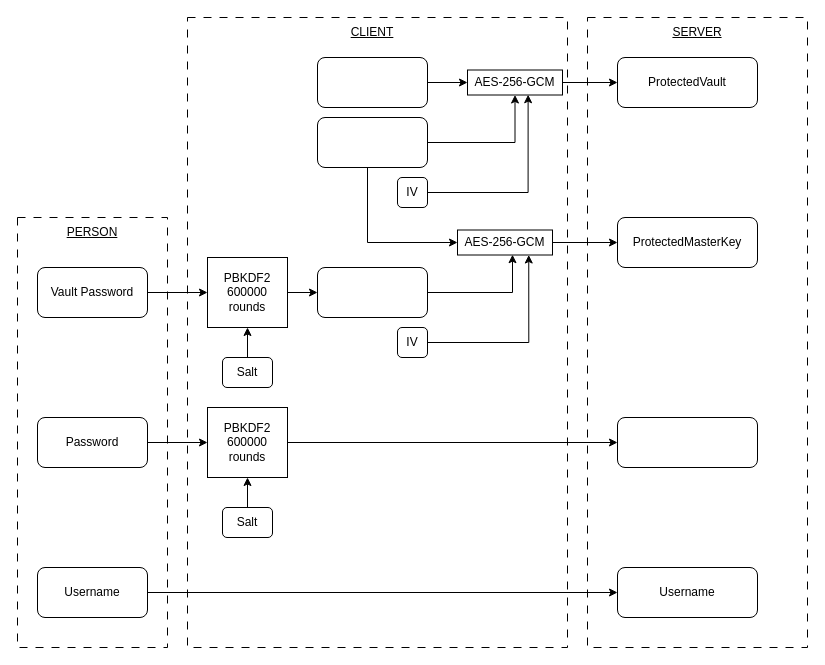
This 825x665 diagram has some shape labels left out. The shapes that lost their labels are listed below. From the top down, each one's centre as x and y in pixels, then its label:
At [372,82]: "Vault".
At [372,142]: "MasterKey".
At [372,292]: "Password Key".
At [687,442]: "Auth Key".
